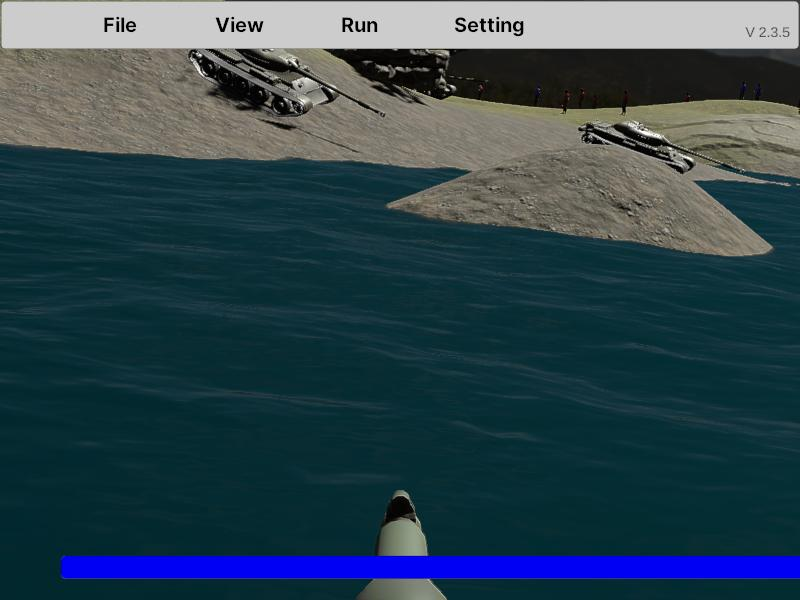Tank: (189, 36, 388, 119), (577, 120, 747, 180)
